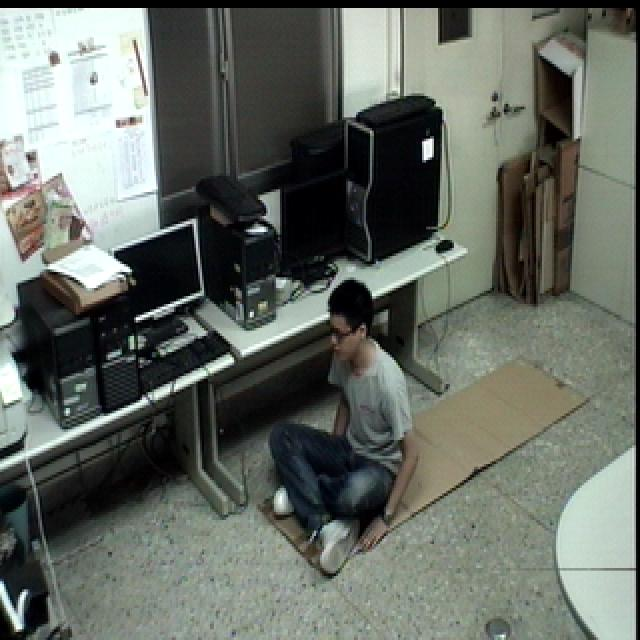sit: (255, 279, 428, 579)
